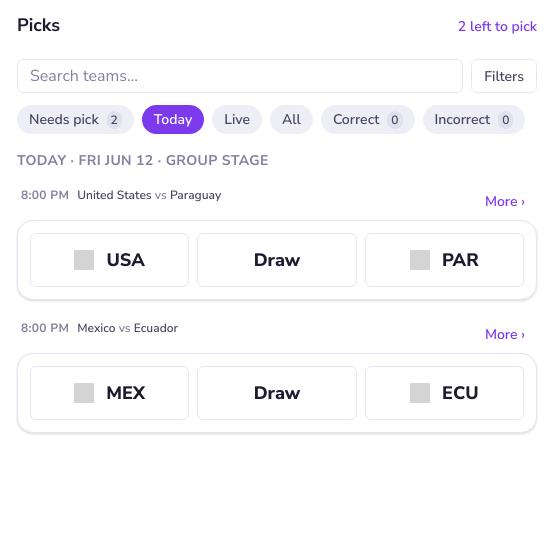
WorldCupGamesList › filters games by World Cup group via the group dropdown
This screenshot has width=555, height=560.
Open the filters panel.
Step 1. Click the button "Filters" → click(504, 76), box [471, 59, 537, 93]
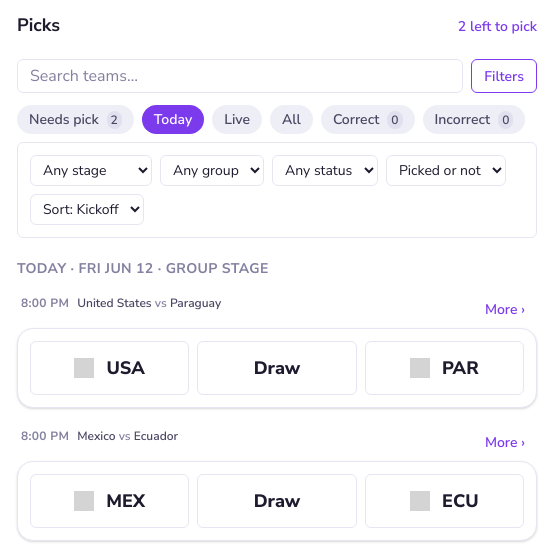
Step 2. Select "Group D" in the 2nd dropdown → (212, 170), box [160, 155, 264, 186]
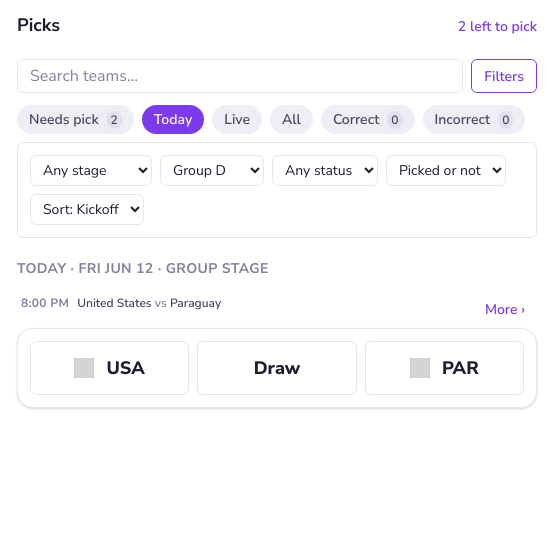
Check: the element with test id "match-card-1" is shown, box [17, 283, 537, 408]
Check: the element with test id "match-card-2" is gone
Resetting to "Any group" restores both.
Step 3. Select "Any group" in the 2nd dropdown → (212, 170), box [160, 155, 264, 186]
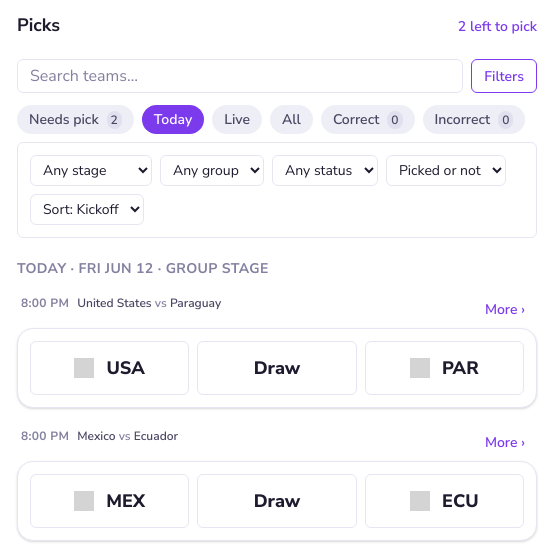
Check: the element with test id "match-card-1" is shown, box [17, 283, 537, 408]
Check: the element with test id "match-card-2" is shown, box [17, 416, 537, 541]
